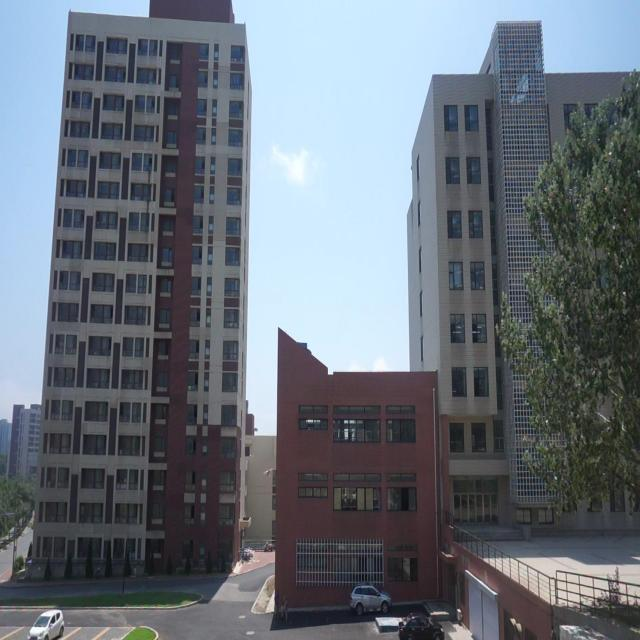UAV: (263, 468, 273, 477)
